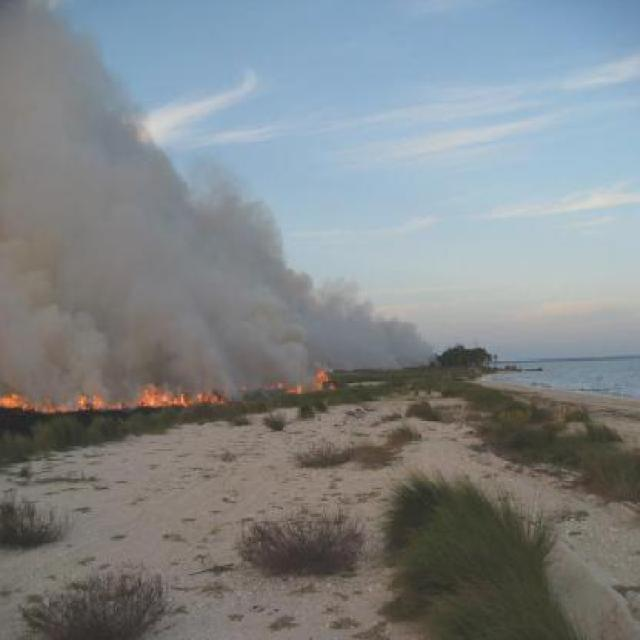Fire: (2, 380, 230, 422), (270, 380, 307, 394), (314, 366, 332, 392)
